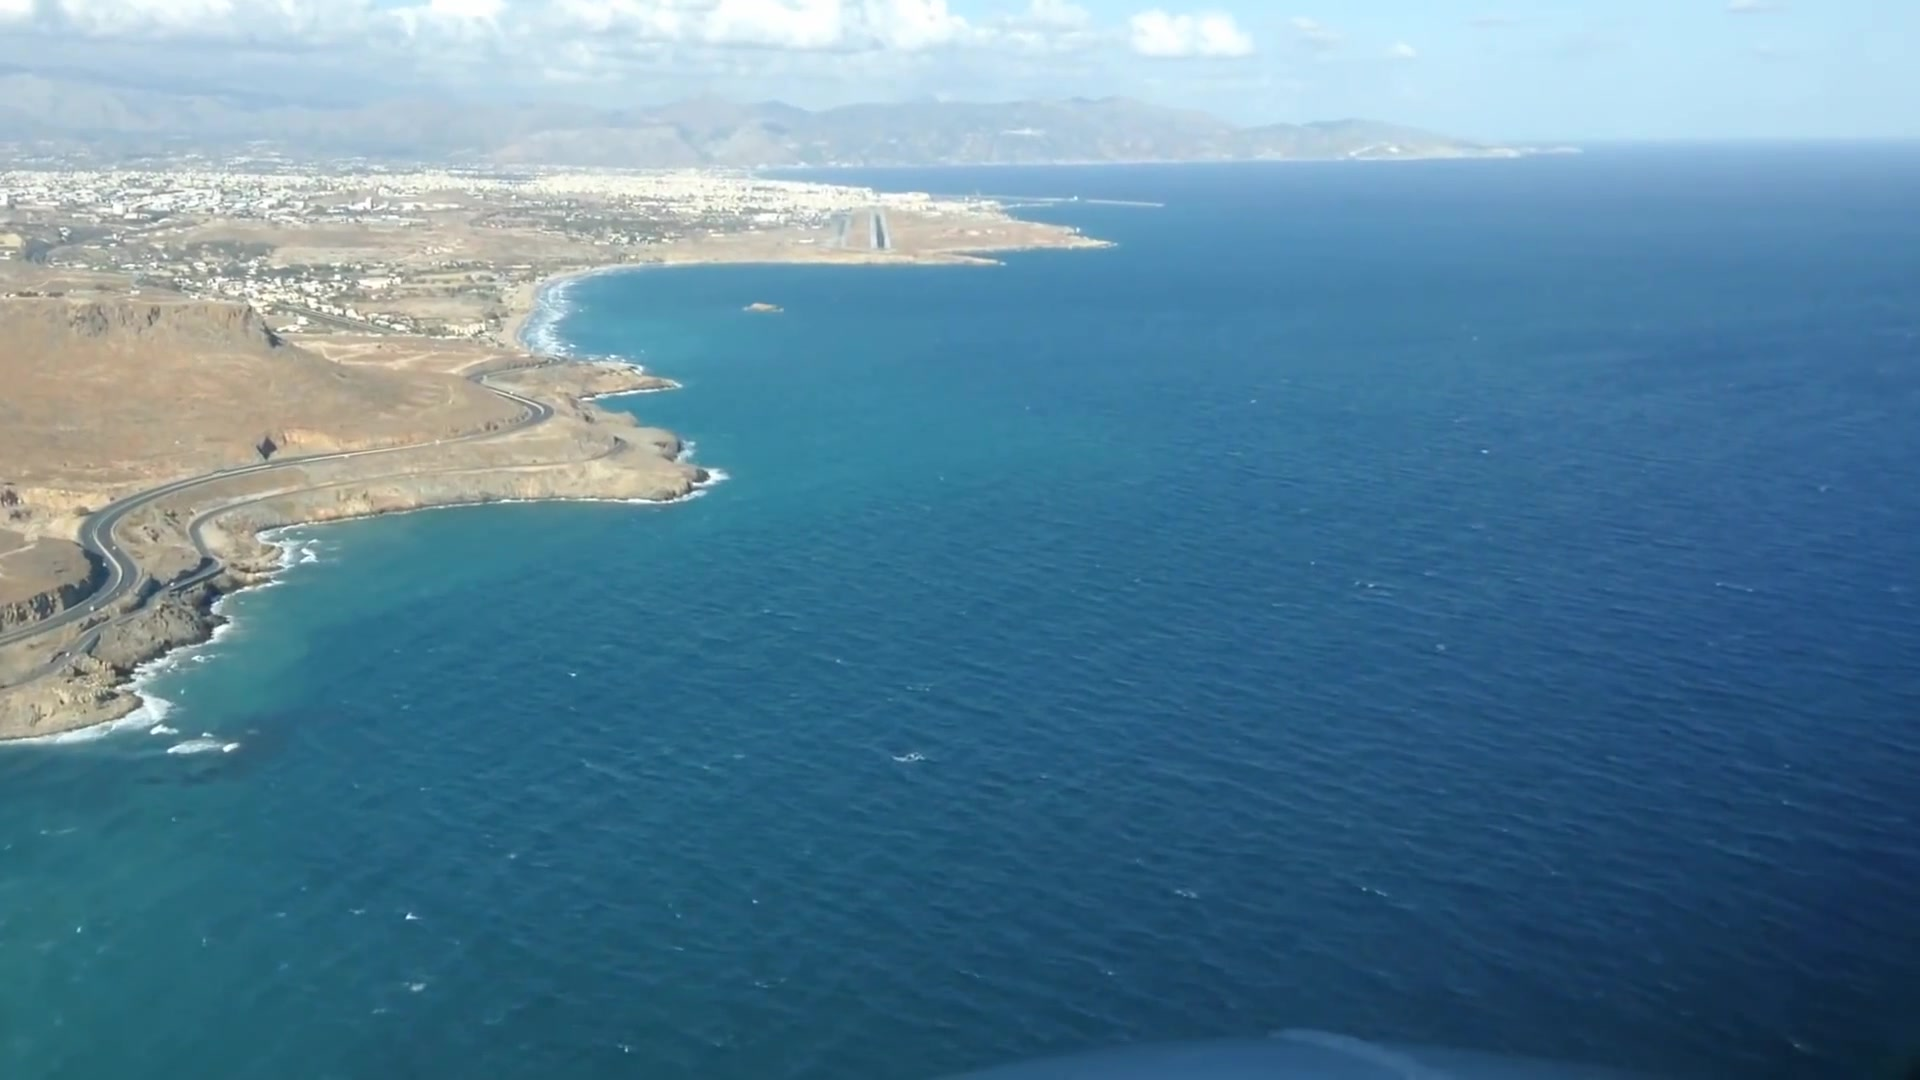runway: (866, 210, 894, 251)
